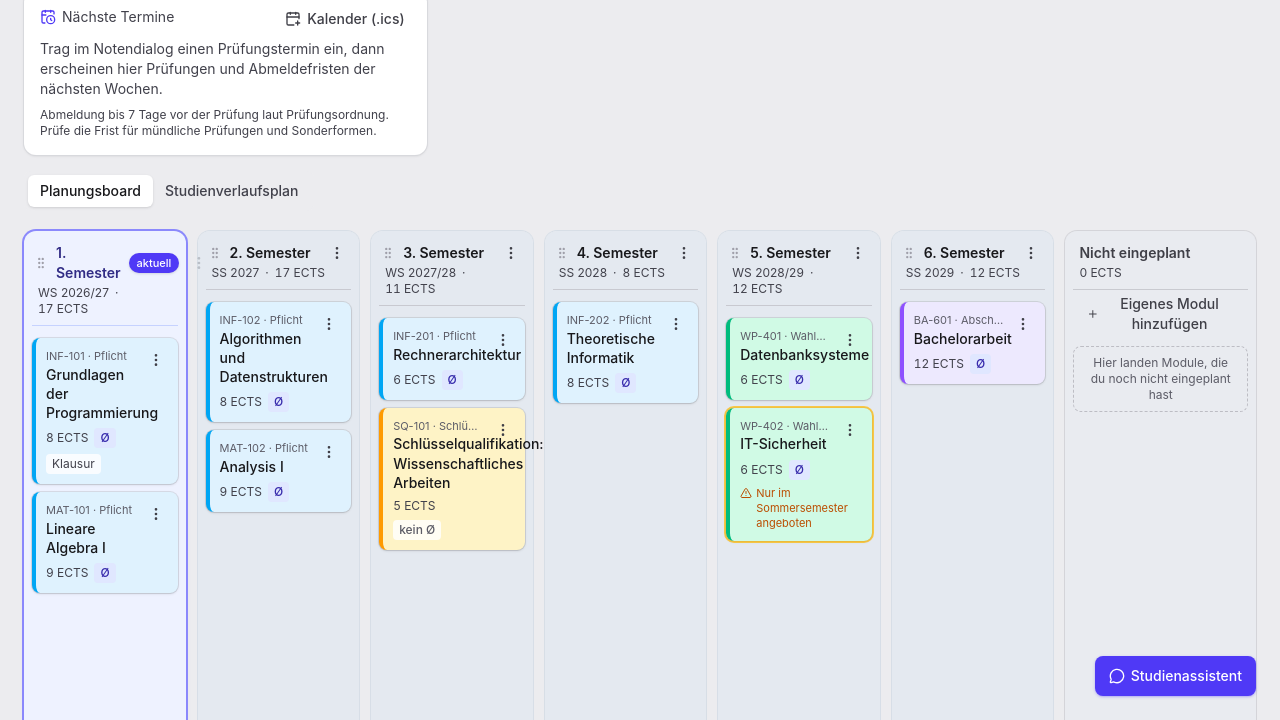
Test: module details dialog › shows facts and Modulkatalog details in German
This screenshot has width=1280, height=720.
(page scrolled)
Click the button named "Aktionen für Grundlagen der Programmierung".
click(156, 360)  # box [140,344,172,376]
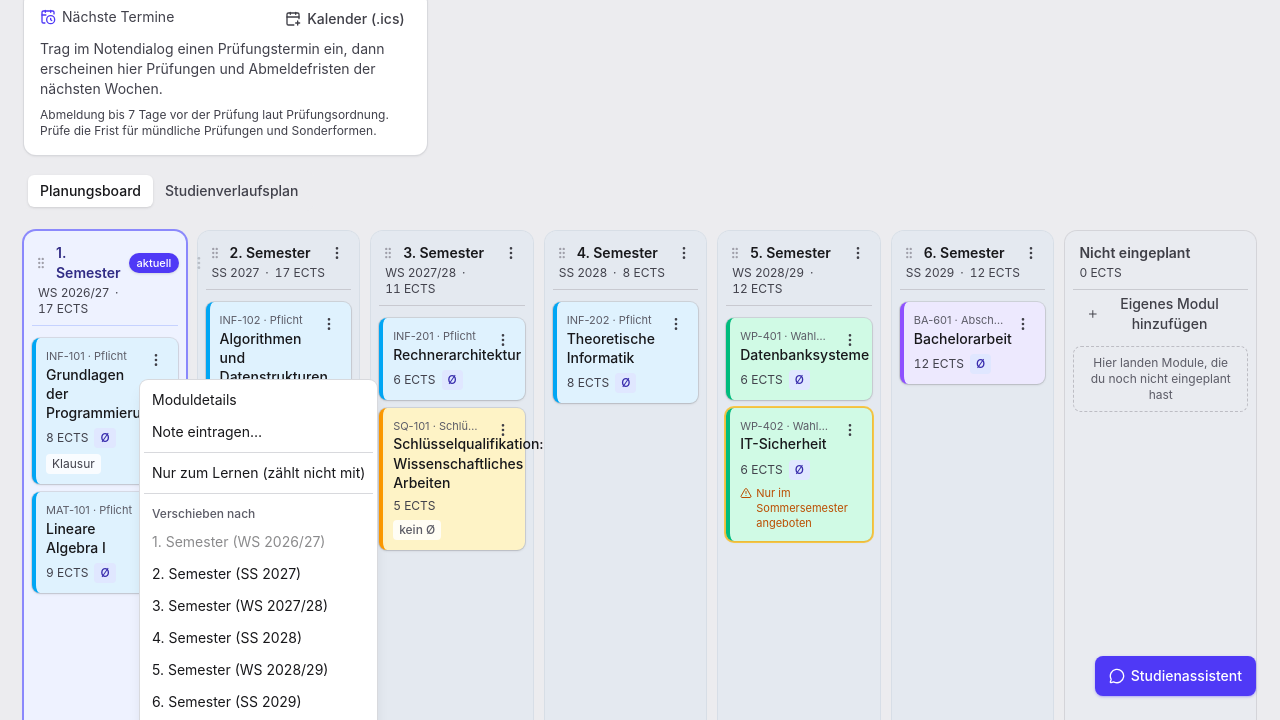
Click the menu item "Moduldetails".
click(194, 400)  # box [152,391,237,408]
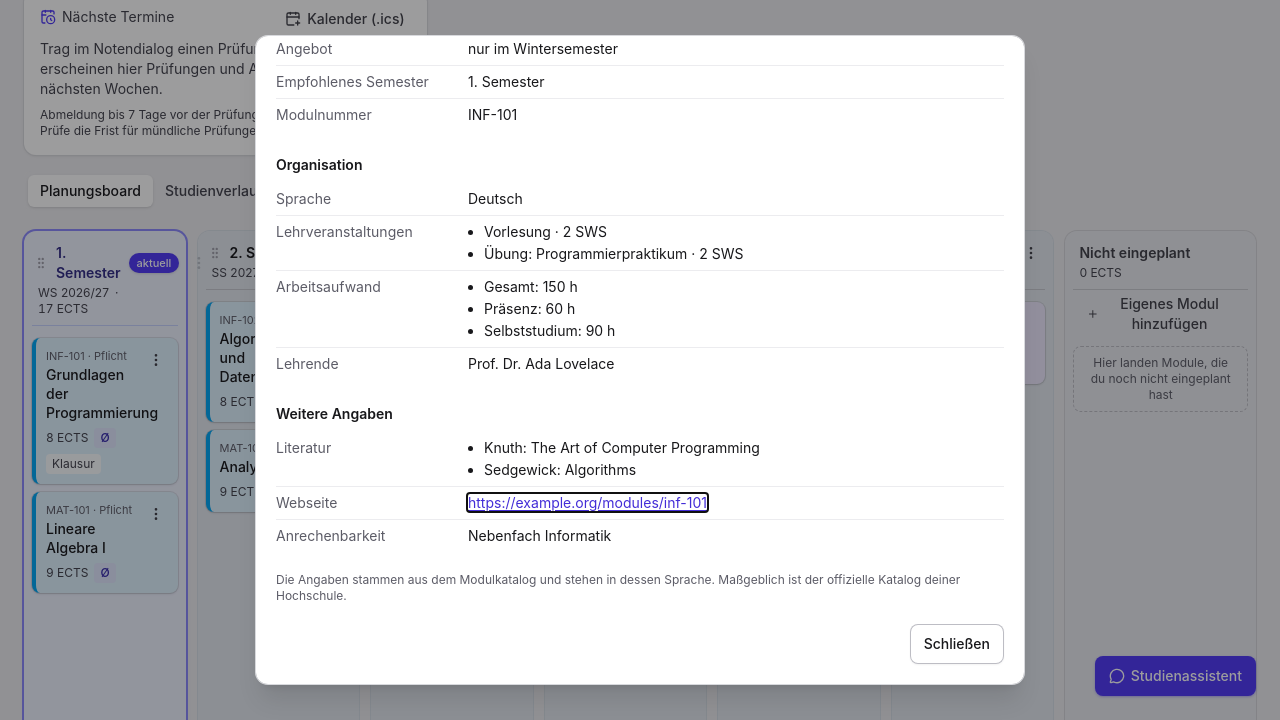
Check: the text "INF-101" is shown, box [468,106,517,122]
Check: the element showing "Prof. Dr. Ada Lovelace" is shown, box [468,354,614,372]
Check: the list items read "Vorlesung · 2 SWS", "Übung: Programmierpraktikum · 2 SWS", in this order, box [484,222,607,240]; [484,244,744,262]
